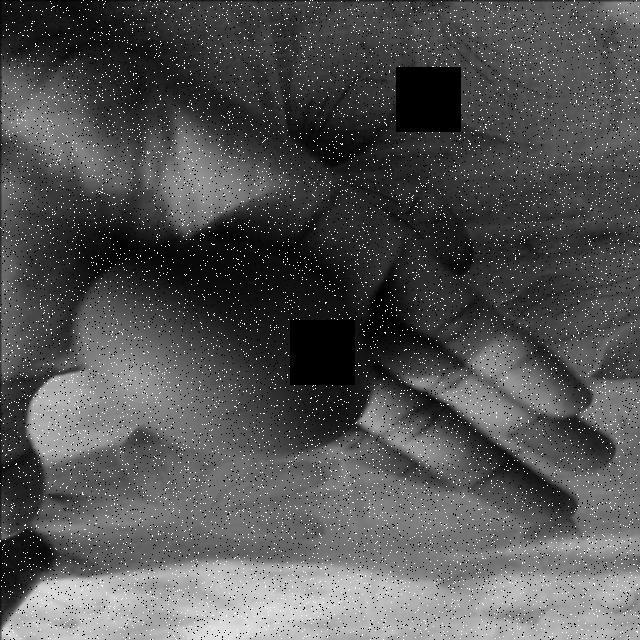egg: (68, 231, 380, 462)
